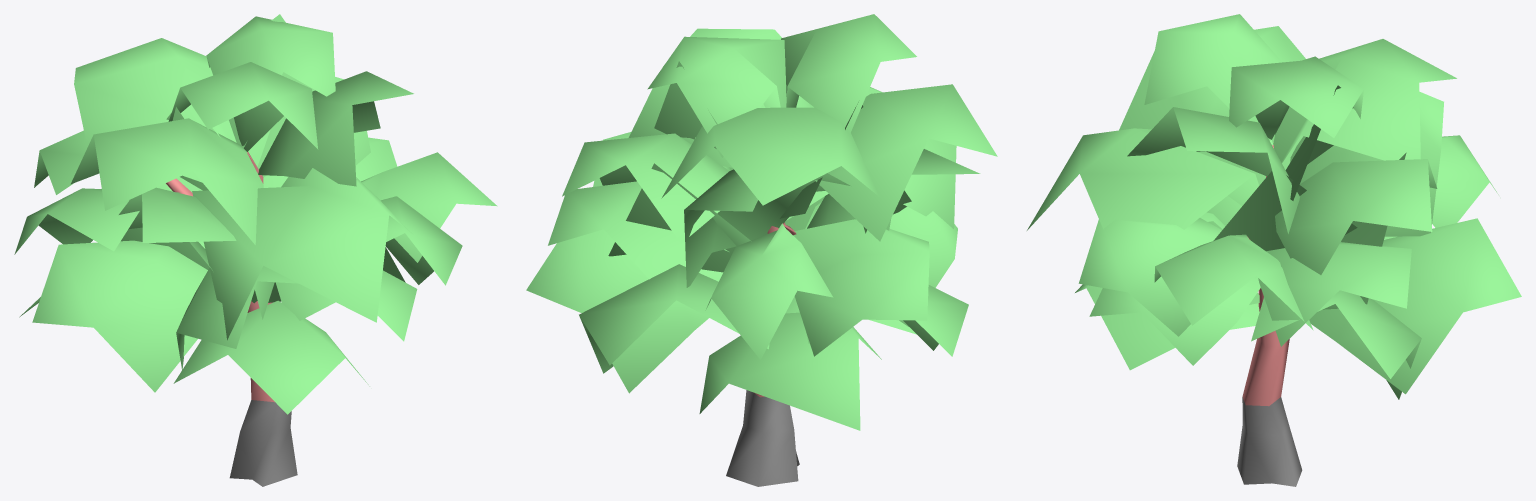
Rendered from gludio_tree_S__gudio_ge_tree05DC.gltf.
The picture shows the model from 3 angles, left to right: view 1: azimuth 30°, elevation 25°; view 2: azimuth 150°, elevation 25°; view 3: azimuth 270°, elevation 25°; orthographic projection. The views are drawn at different scales.
Visible parts, largest first — view 1: gudio_ge_tree05DC; view 2: gudio_ge_tree05DC; view 3: gudio_ge_tree05DC.
Part boxes in pixels (bbox=[...]): gudio_ge_tree05DC: bbox=[14, 14, 497, 486]; gudio_ge_tree05DC: bbox=[526, 14, 997, 486]; gudio_ge_tree05DC: bbox=[1027, 14, 1521, 486].
Size of the model in its own units: 6.68 by 6.82 by 7.21.
